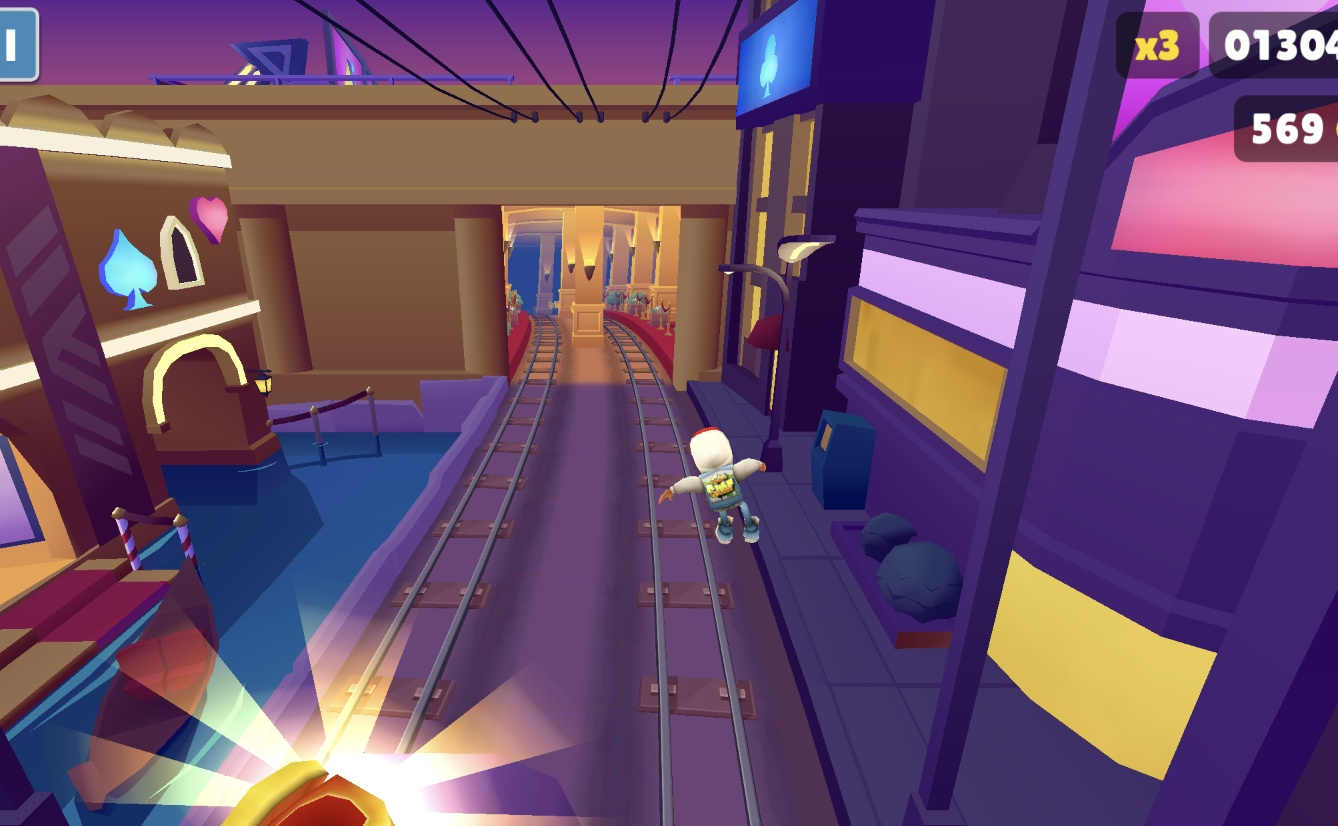pillar: (562, 205, 609, 347)
train: (0, 721, 429, 826)
